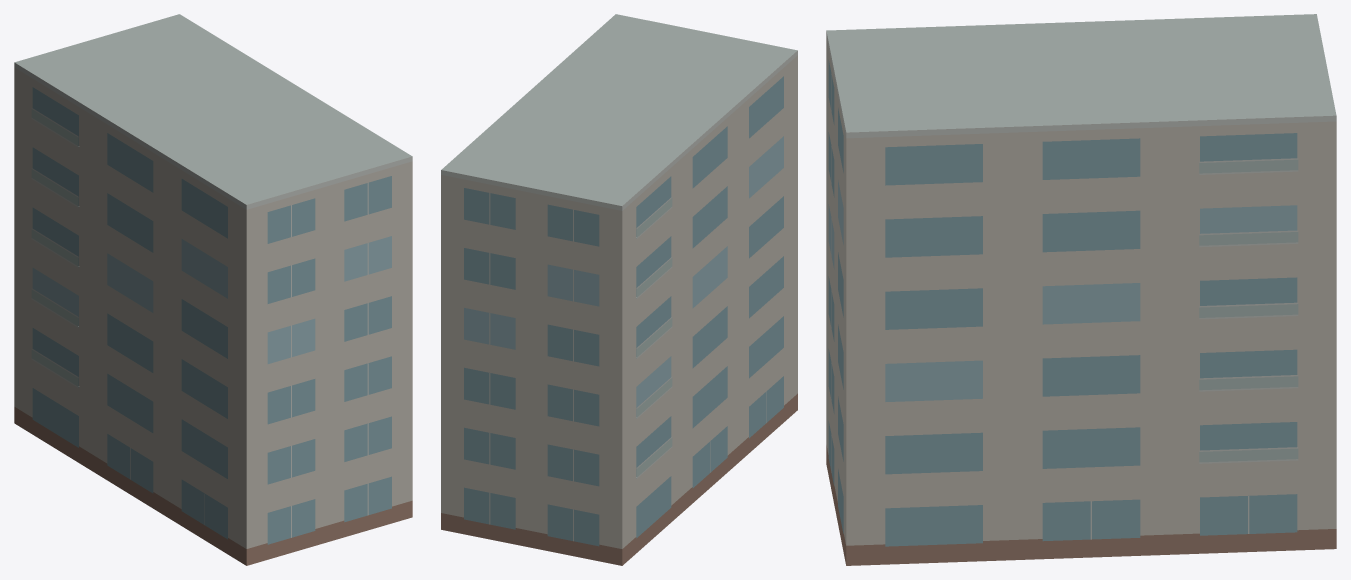
The model's file is survey-upis-32930532.glb.
3 renders of one model, left to right at view 1: azimuth 30°, elevation 25°; view 2: azimuth 150°, elevation 25°; view 3: azimuth 270°, elevation 25°, orthographic. The views are drawn at different scales.
Visible parts, largest first — view 1: survey-upis-32930532.tmp; view 2: survey-upis-32930532.tmp; view 3: survey-upis-32930532.tmp.
Part boxes in pixels (box(x1,y1,x2,y2)): survey-upis-32930532.tmp: box(14, 14, 412, 565); survey-upis-32930532.tmp: box(441, 14, 797, 565); survey-upis-32930532.tmp: box(826, 14, 1336, 565).
Bounding box in the file's own units: 10.63 × 18.1 × 19.32.
